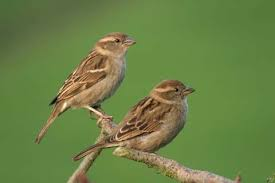hsparrow: (30, 31, 136, 146), (72, 79, 199, 164)
